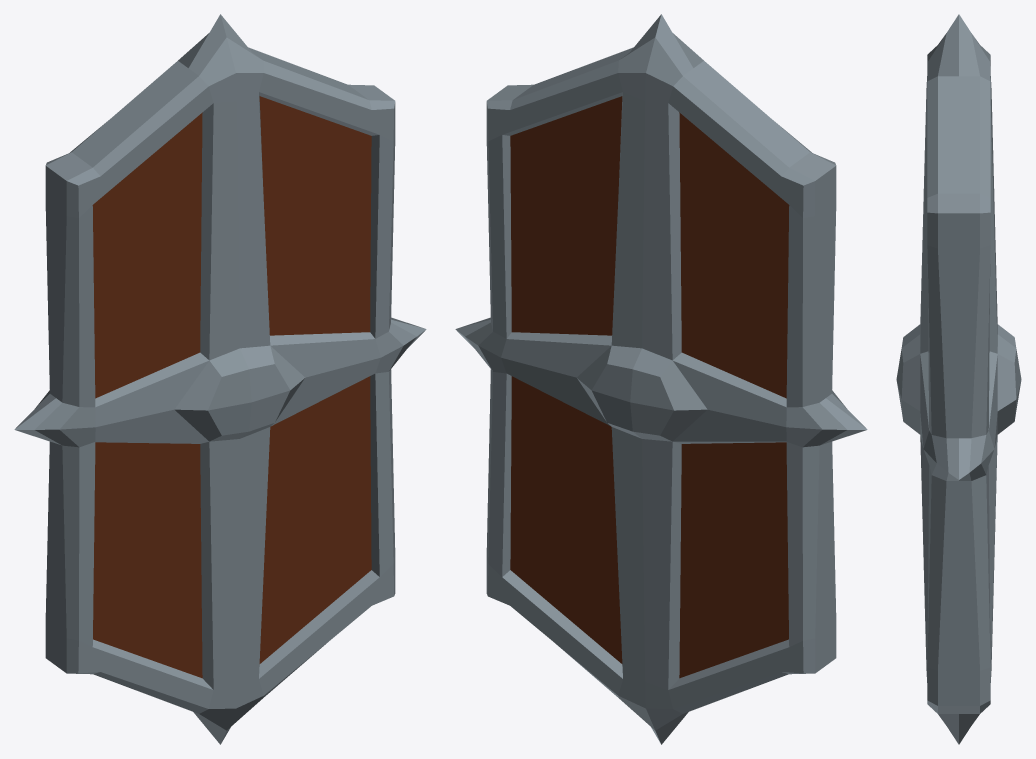
Rendered from Hexagon.fbx.
3 views of the same model, side by side, from view 1: azimuth 30°, elevation 25°; view 2: azimuth 150°, elevation 25°; view 3: azimuth 270°, elevation 25° (orthographic).
Visible parts, largest first — view 1: Hexagon; view 2: Hexagon; view 3: Hexagon.
Part boxes in pixels (left/top/right/bottom): Hexagon: left=14, top=14, right=426, bottom=744; Hexagon: left=455, top=14, right=867, bottom=744; Hexagon: left=896, top=14, right=1021, bottom=744.
Bounding box in the file's own units: 99.55 × 169 × 26.14.
